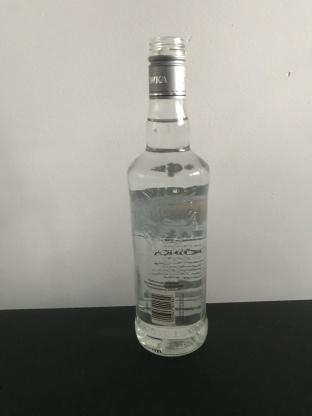nakretka: (146, 35, 187, 99)
